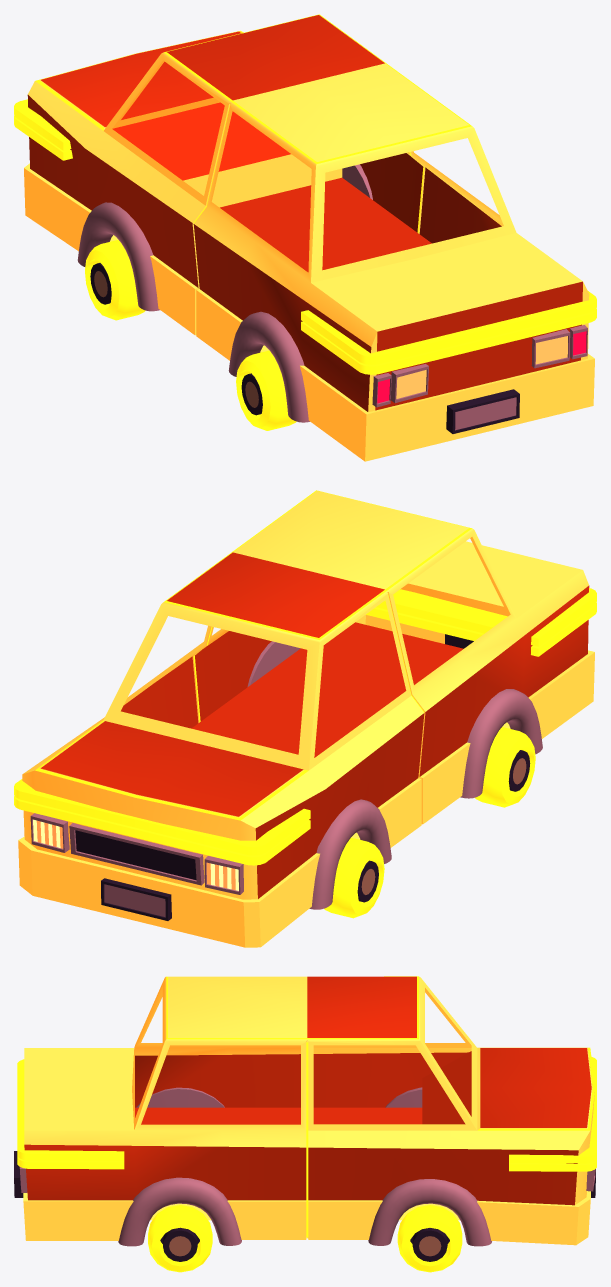
File: car_1.fbx
3 renders of one model, top to bottom at view 1: azimuth 30°, elevation 25°; view 2: azimuth 150°, elevation 25°; view 3: azimuth 270°, elevation 25°, orthographic. The views are drawn at different scales.
Visible parts, largest first — view 1: Cube.084, Cube.085, Cube.093, Cylinder.016, Cube.090, Cube.091, Cube.089, Cube.092; view 2: Cube.084, Cube.085, Cube.089, Cylinder.016, Cube.093, Cube.087, Cube.088, Cube.086; view 3: Cube.084, Cube.085, Cylinder.016, Cube.093, Cube.089.
Part boxes in pixels (x1,y1,x2,y2): Cube.084: [24, 14, 594, 461]; Cube.085: [77, 164, 372, 422]; Cube.093: [301, 291, 596, 374]; Cylinder.016: [85, 240, 296, 430]; Cube.090: [390, 329, 570, 403]; Cube.091: [446, 389, 519, 433]; Cube.089: [14, 99, 72, 160]; Cube.092: [372, 325, 587, 407]; Cube.084: [18, 490, 594, 947]; Cube.085: [247, 641, 542, 909]; Cube.089: [14, 779, 310, 865]; Cylinder.016: [324, 727, 535, 918]; Cube.093: [366, 588, 596, 656]; Cube.087: [69, 823, 204, 885]; Cube.088: [30, 813, 243, 894]; Cube.086: [101, 878, 171, 920]; Cube.084: [23, 976, 594, 1245]; Cube.085: [118, 1087, 491, 1246]; Cylinder.016: [148, 1205, 462, 1272]; Cube.093: [17, 1059, 124, 1169]; Cube.089: [509, 1056, 596, 1171].
Bounding box in the file's own units: 222 × 203 × 500.
